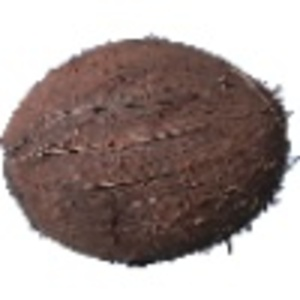coco: (1, 38, 300, 267)
